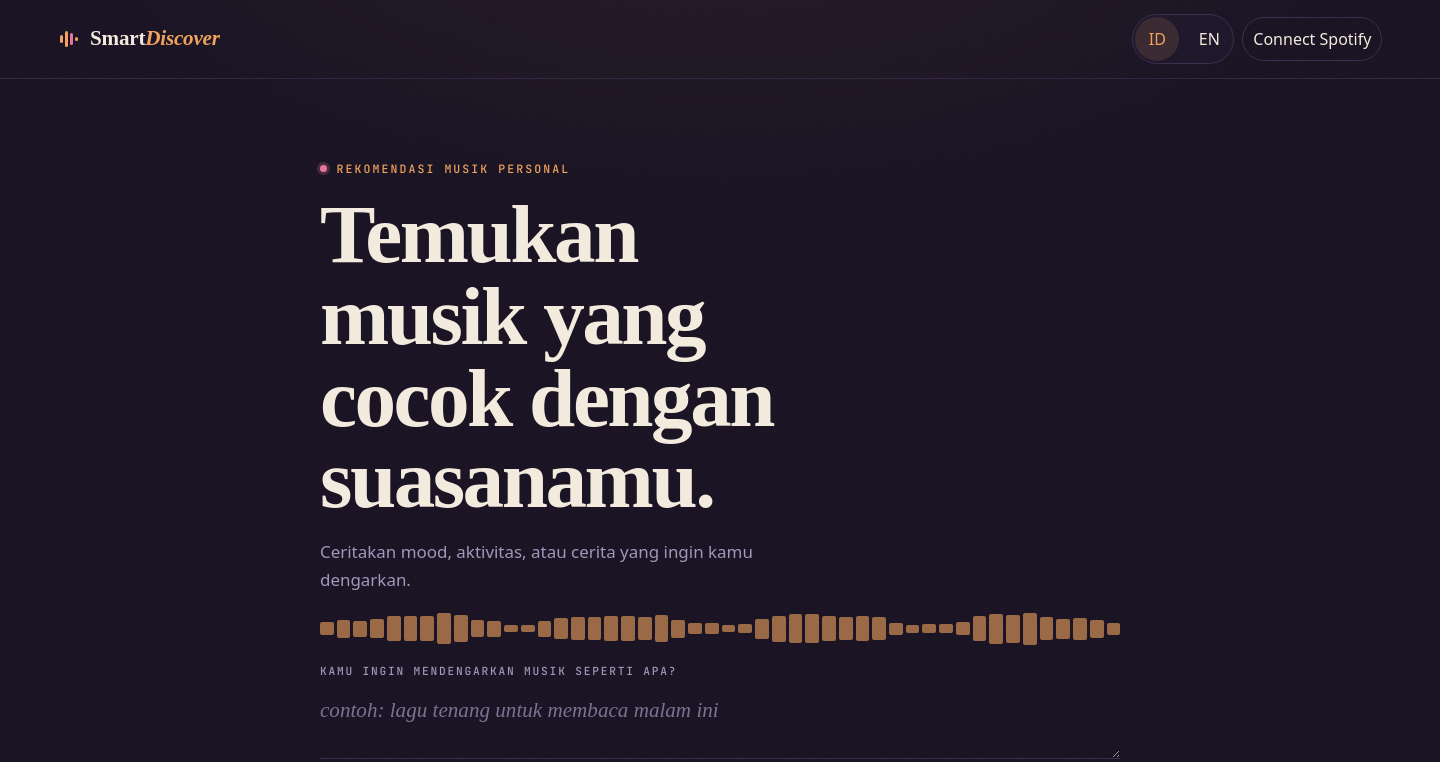
Test: App › shows the localized demo notice from the Spotify health response
Type "lagu untuk malam" into the text box labelled "Kamu ingin mendengarkan musik seperti apa?". click: (720, 722)
box: x1=320 y1=685 x2=1120 y2=758
(page scrolled)
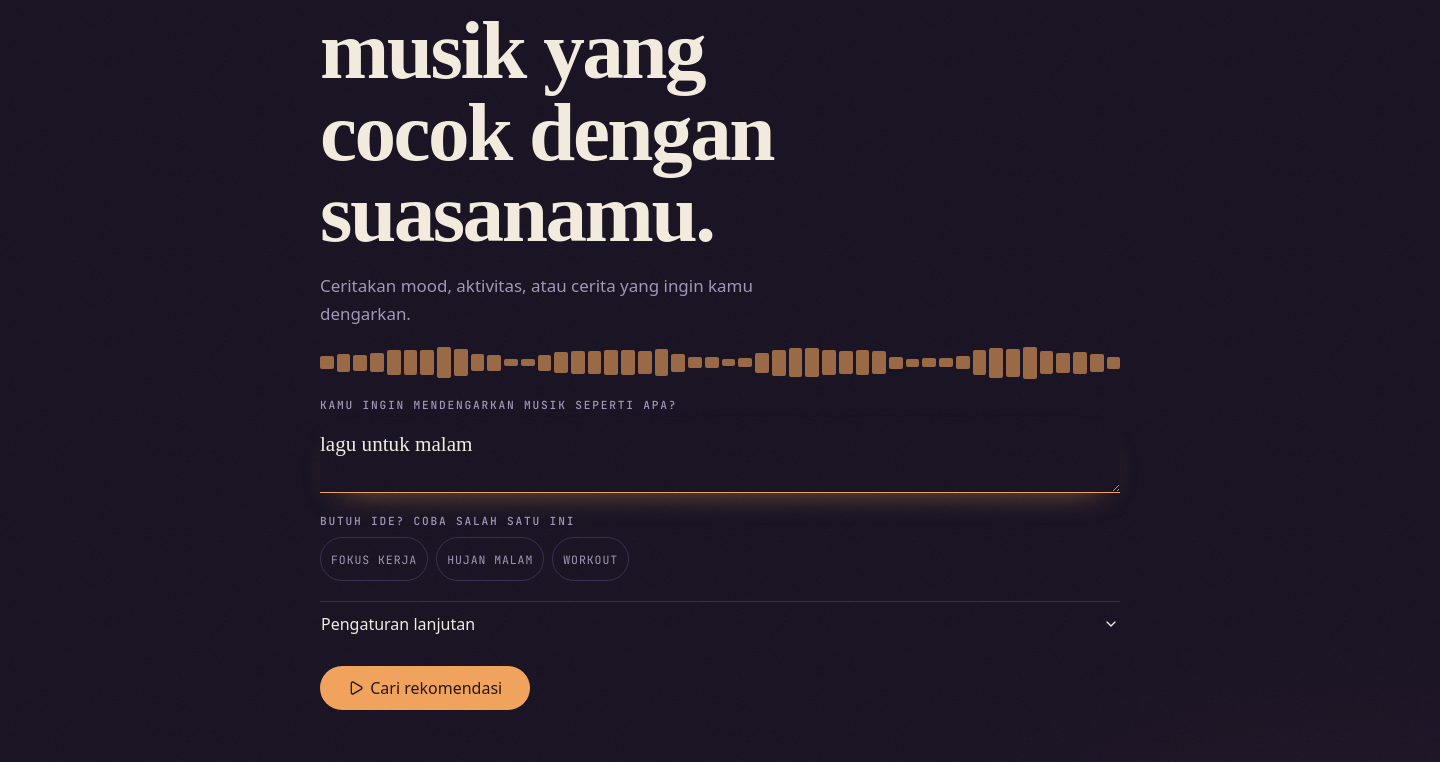
Click the button "Cari rekomendasi". click: (425, 688)
box: x1=320 y1=666 x2=530 y2=710
(page scrolled)
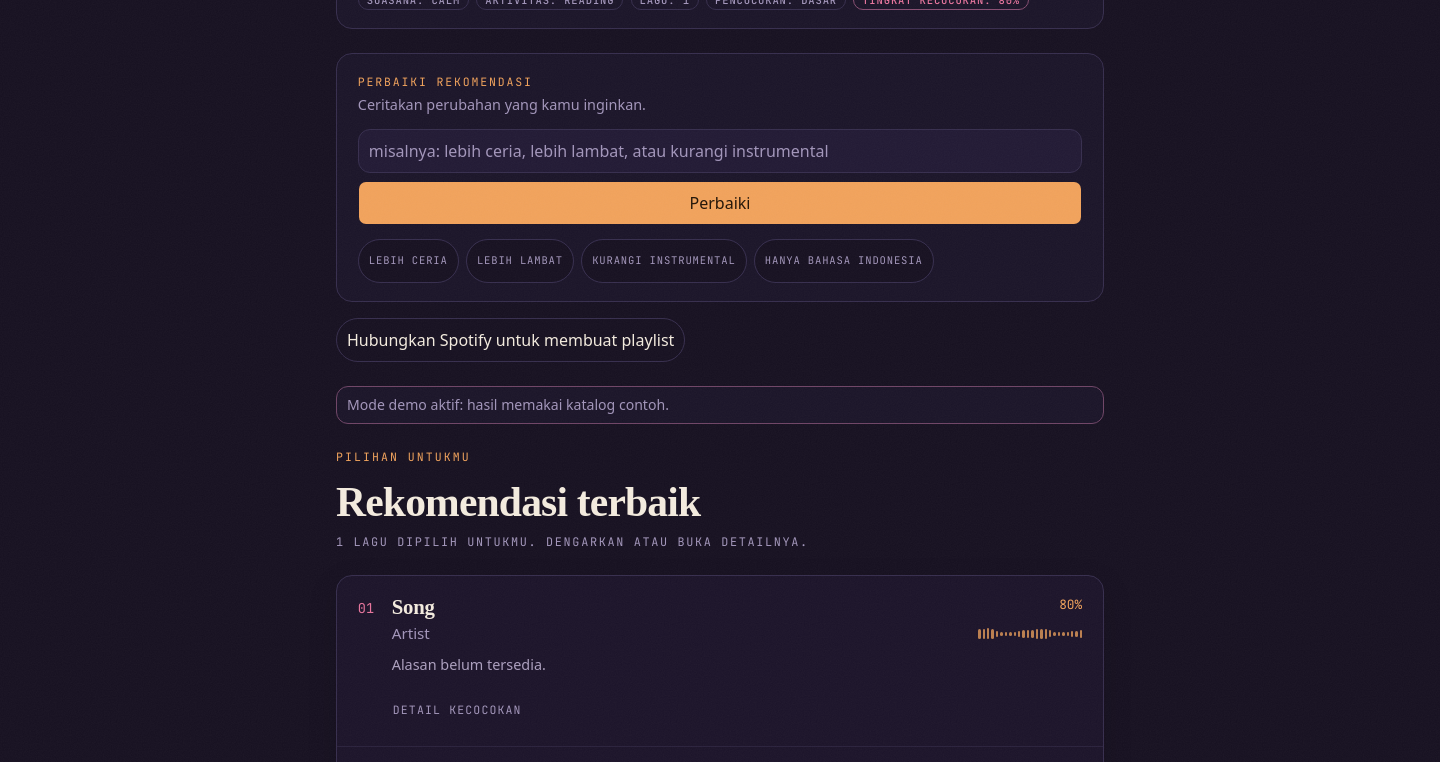
Expected: the text "Mode demo aktif: hasil memakai katalog contoh." is shown, x1=347 y1=395 x2=669 y2=414
